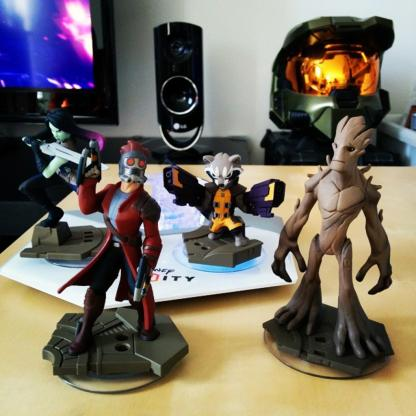Helmet: (274, 0, 403, 146), (122, 137, 150, 185)
